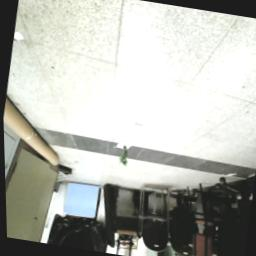herb: (117, 145, 130, 168)
